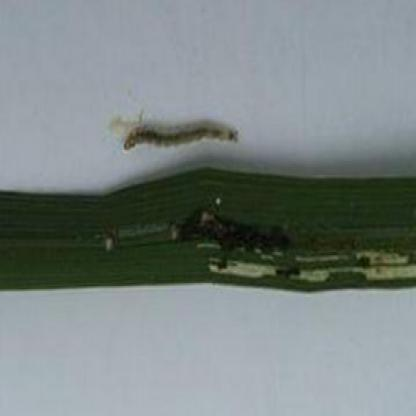leaf-folder: (105, 102, 247, 166)
